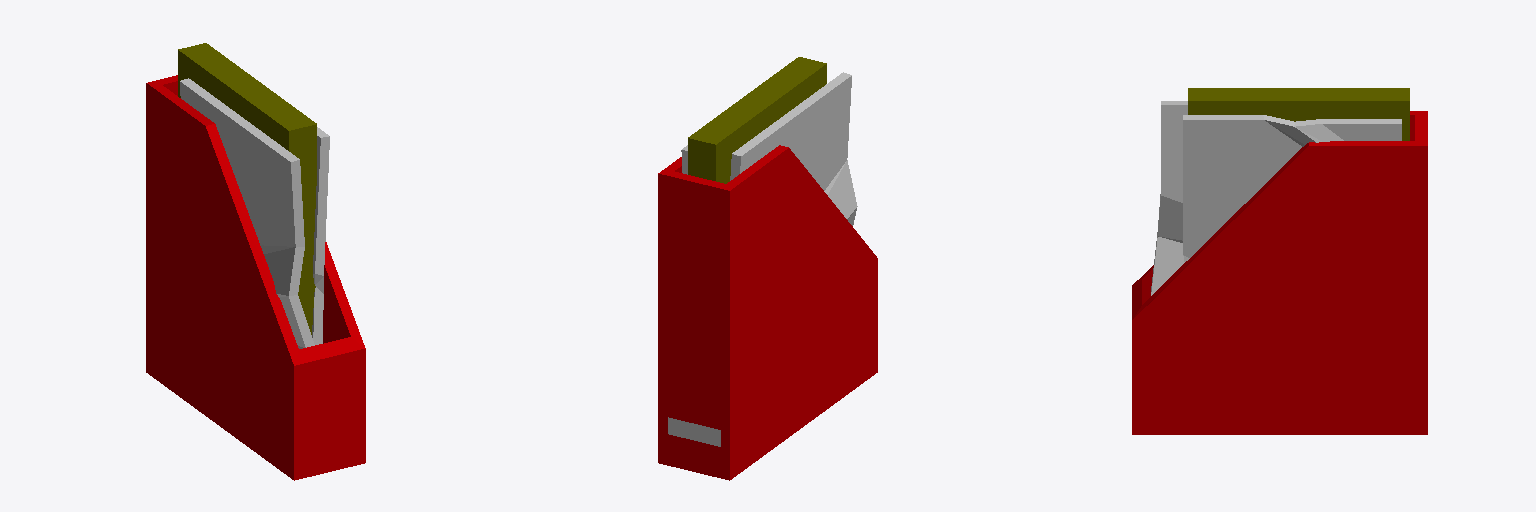
File: Folder_Holder_full.02.obj
3 views of the same model, side by side, from view 1: azimuth 30°, elevation 25°; view 2: azimuth 150°, elevation 25°; view 3: azimuth 270°, elevation 25° (orthographic).
Visible parts, largest first — view 1: Folder_Holder_full.02; view 2: Folder_Holder_full.02; view 3: Folder_Holder_full.02.
Part boxes in pixels (left/top/right/bottom): Folder_Holder_full.02: left=146, top=43, right=365, bottom=480; Folder_Holder_full.02: left=658, top=57, right=877, bottom=480; Folder_Holder_full.02: left=1132, top=88, right=1427, bottom=434.
Bounding box in the file's own units: 0.0918 × 0.3974 × 0.3286.